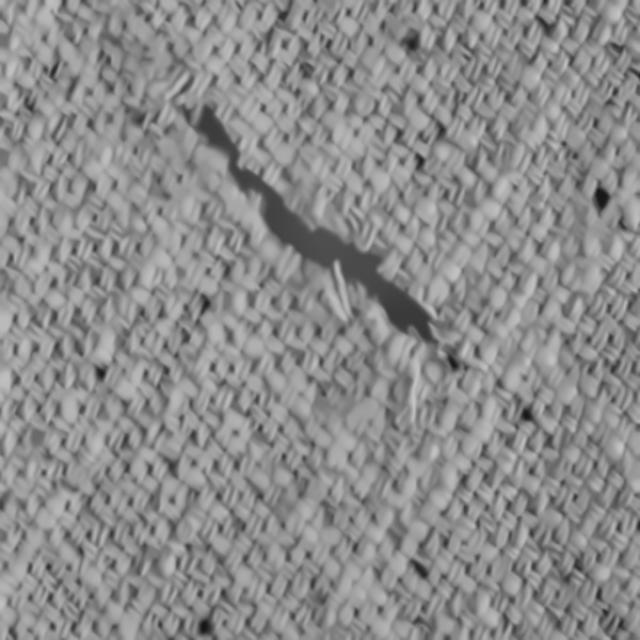other: (123, 60, 507, 442), (568, 158, 638, 236)
